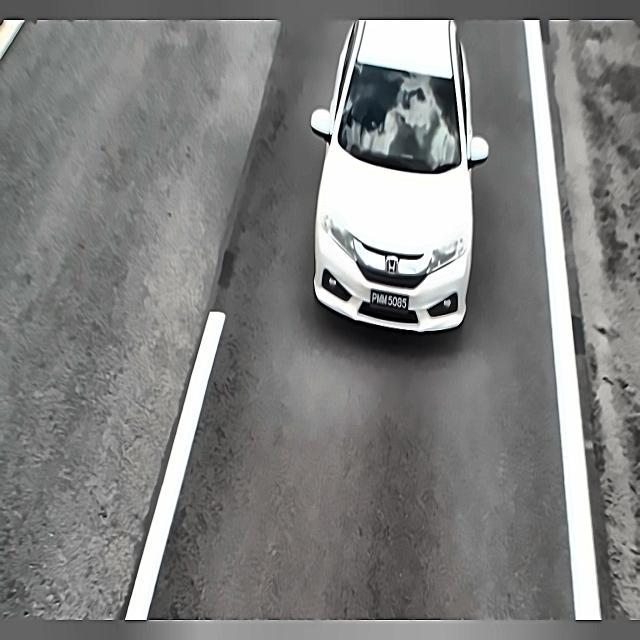car: (371, 288, 408, 318)
